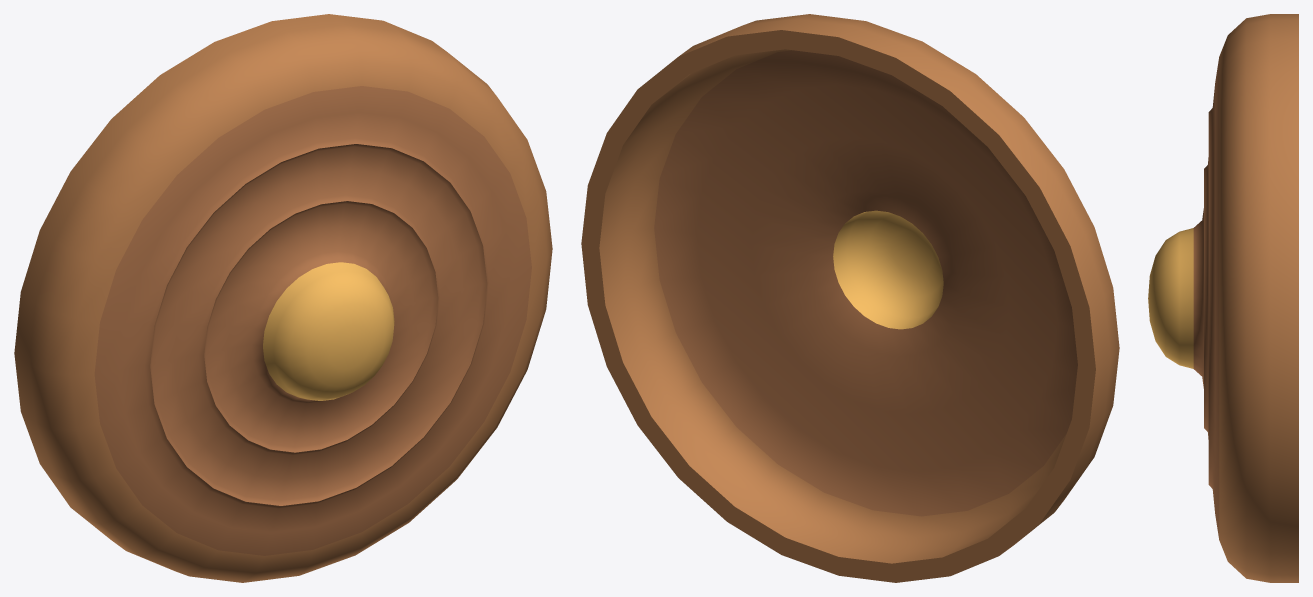
Rendered from gamelar_kempul.fbx.
3 views of the same model, side by side, from view 1: azimuth 30°, elevation 25°; view 2: azimuth 150°, elevation 25°; view 3: azimuth 270°, elevation 25° (orthographic). The views are drawn at different scales.
Visible parts, largest first — view 1: Kempul_Mesh; view 2: Kempul_Mesh; view 3: Kempul_Mesh.
Boxes of the visible parts, x1=… form: Kempul_Mesh: x1=14, y1=14, x2=552, y2=582; Kempul_Mesh: x1=581, y1=14, x2=1119, y2=582; Kempul_Mesh: x1=1148, y1=14, x2=1298, y2=582.
Size of the model in its own units: 0.23 by 0.23 by 0.0609.
